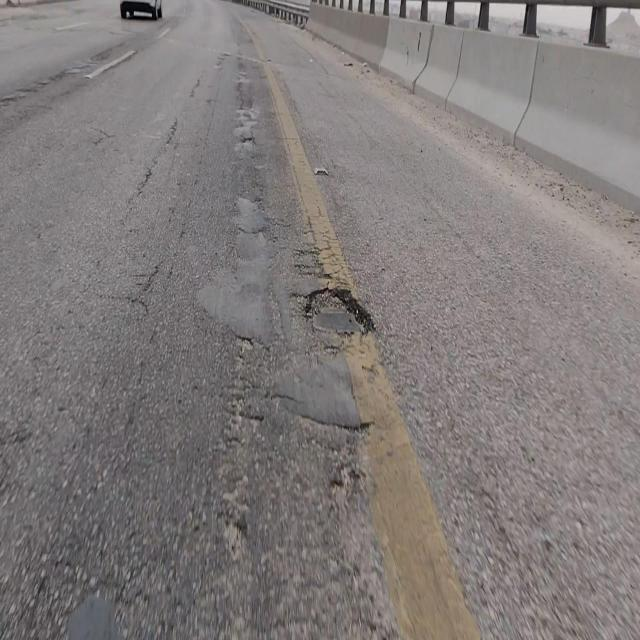Potholes: (303, 286, 375, 338)
